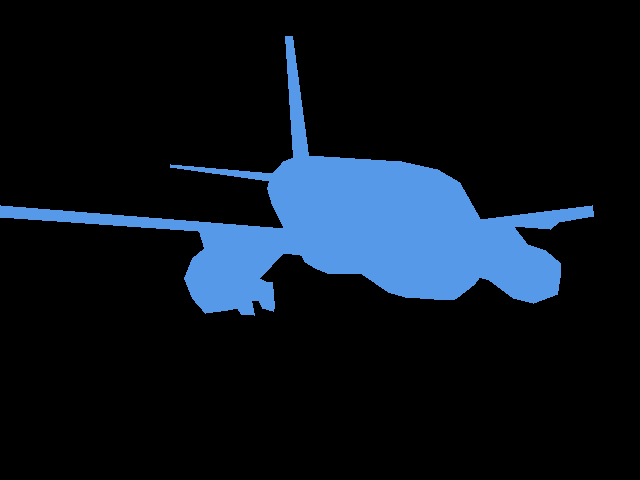Airplane: (0, 36, 593, 316)
